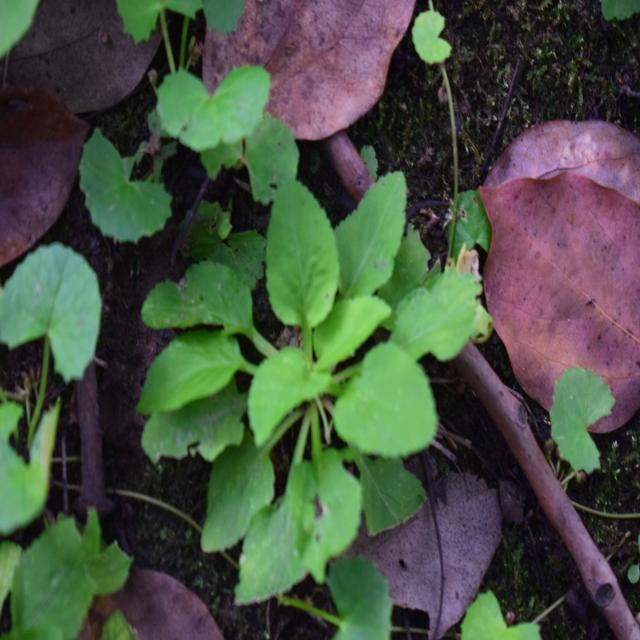Viola: (164, 199, 461, 554)
